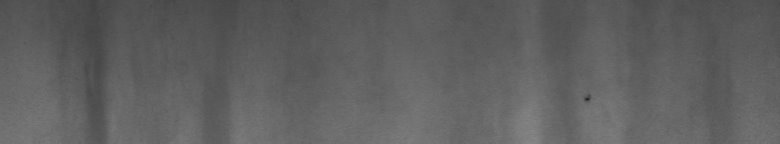fi: (584, 92, 592, 107)
